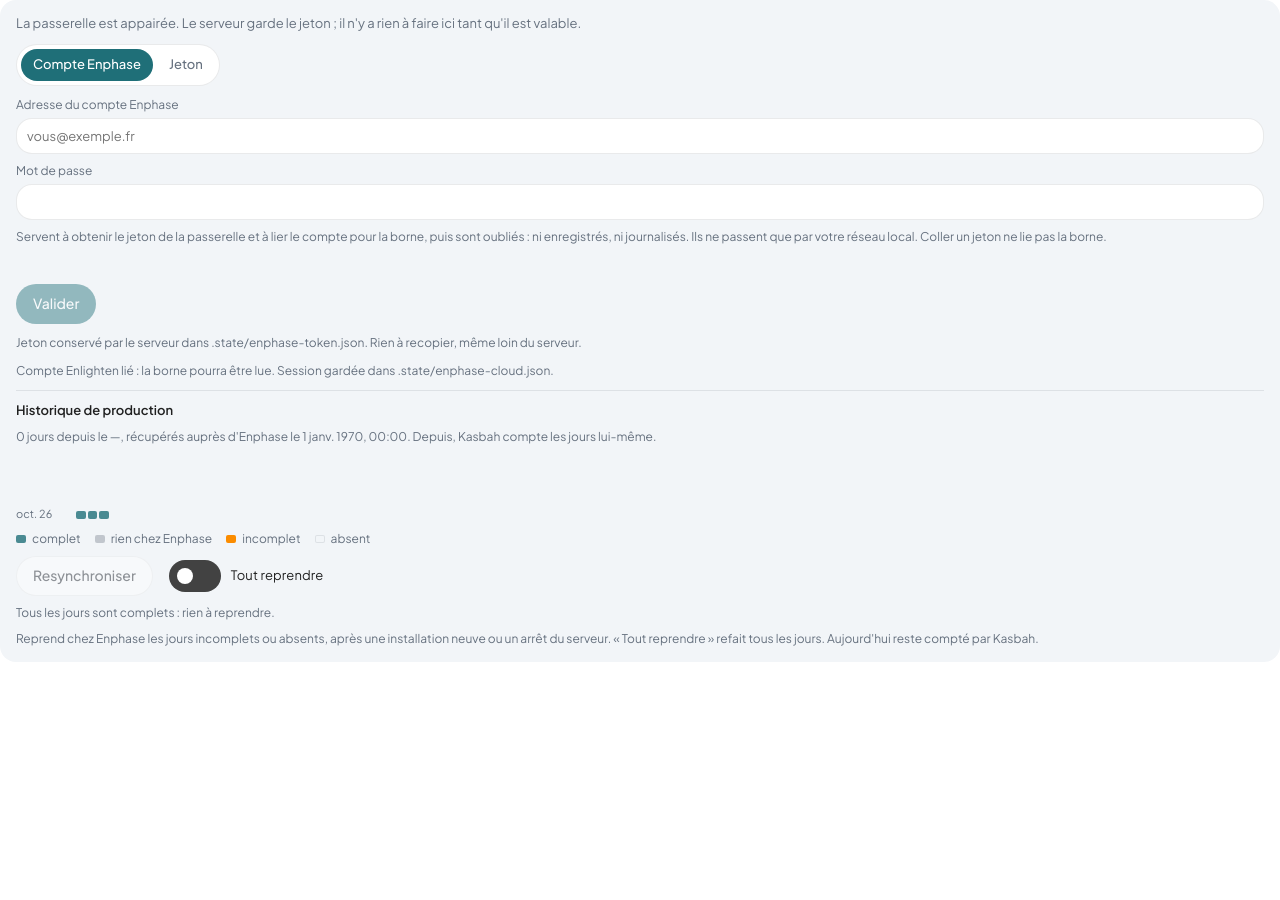
Scenario: EnphasePairingCard — history › every day complete: nothing to take again, unless forced
Expected: the element with class "enp__history" shows "Tous les jours sont complets", [16,605,275,620]
Expected: the button "Resynchroniser" is disabled, [16,556,153,596]
Click the checkbox labelled "Tout reprendre" at [277, 575], box [231,567,323,583]
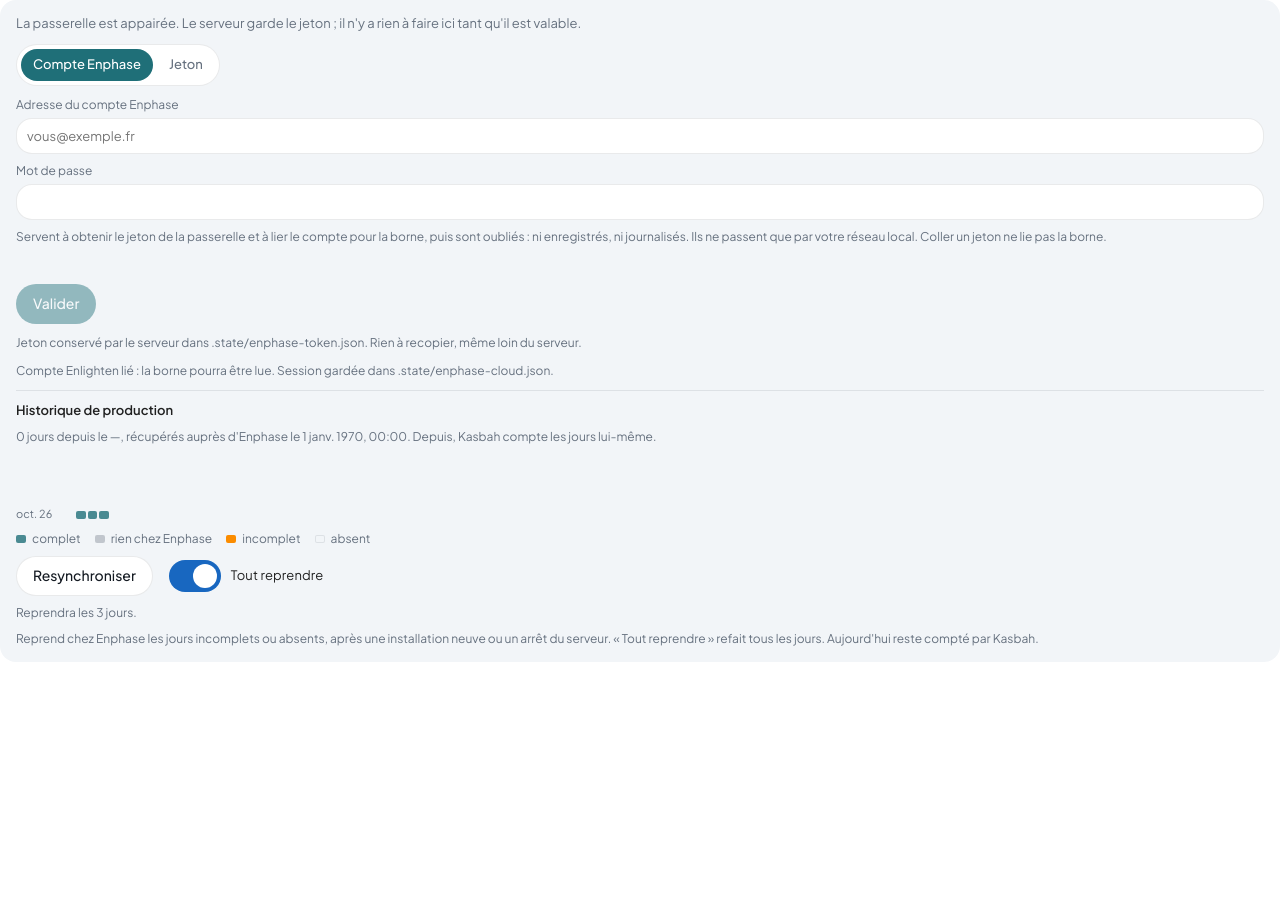
Result: the button "Resynchroniser" is enabled at [16,556,153,596]
